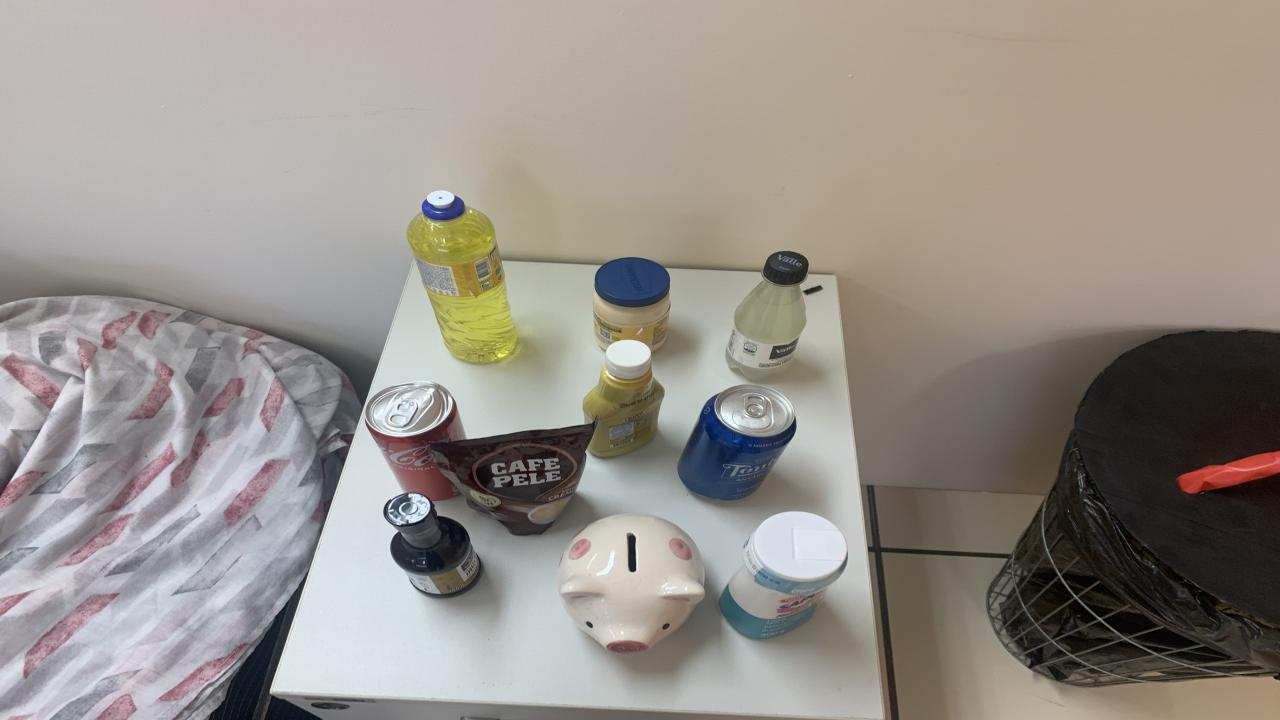Cleaner-Cleanup_Items: (720, 512, 848, 639)
Coffee-Pantry_Items: (432, 424, 595, 534)
Coke-Drinks: (362, 381, 465, 501)
Detergent-Cleanup_Items: (408, 189, 518, 364)
English_Sauce-Pantry_Items: (382, 493, 482, 598)
Mayonnaise-Pantry_Items: (592, 257, 670, 351)
Mustard-Pantry_Items: (582, 339, 665, 458)
Pig_Safe-Miscellaneous: (558, 514, 705, 654)
Soda-Drinks: (725, 251, 810, 381)
Tonic-Drinks: (678, 384, 795, 501)
